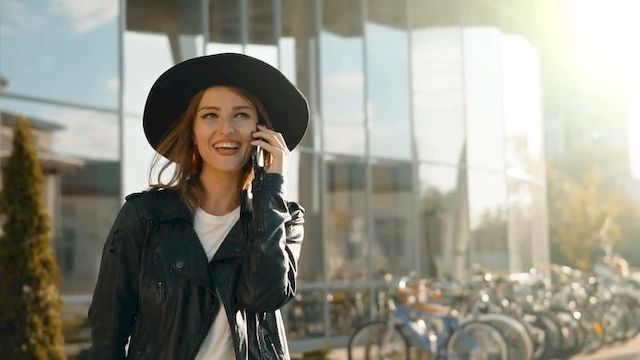phone: (247, 126, 280, 182)
talk: (196, 99, 292, 185)
